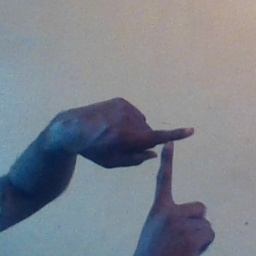T: (118, 103, 214, 218)
